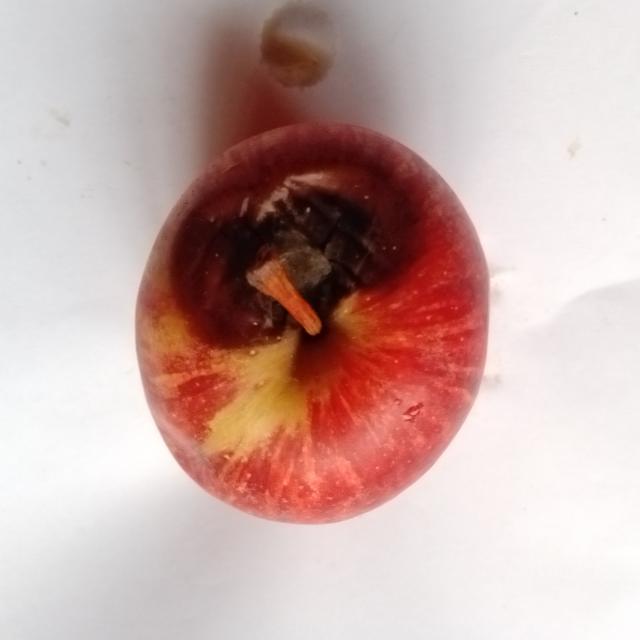apple: (137, 124, 488, 522)
